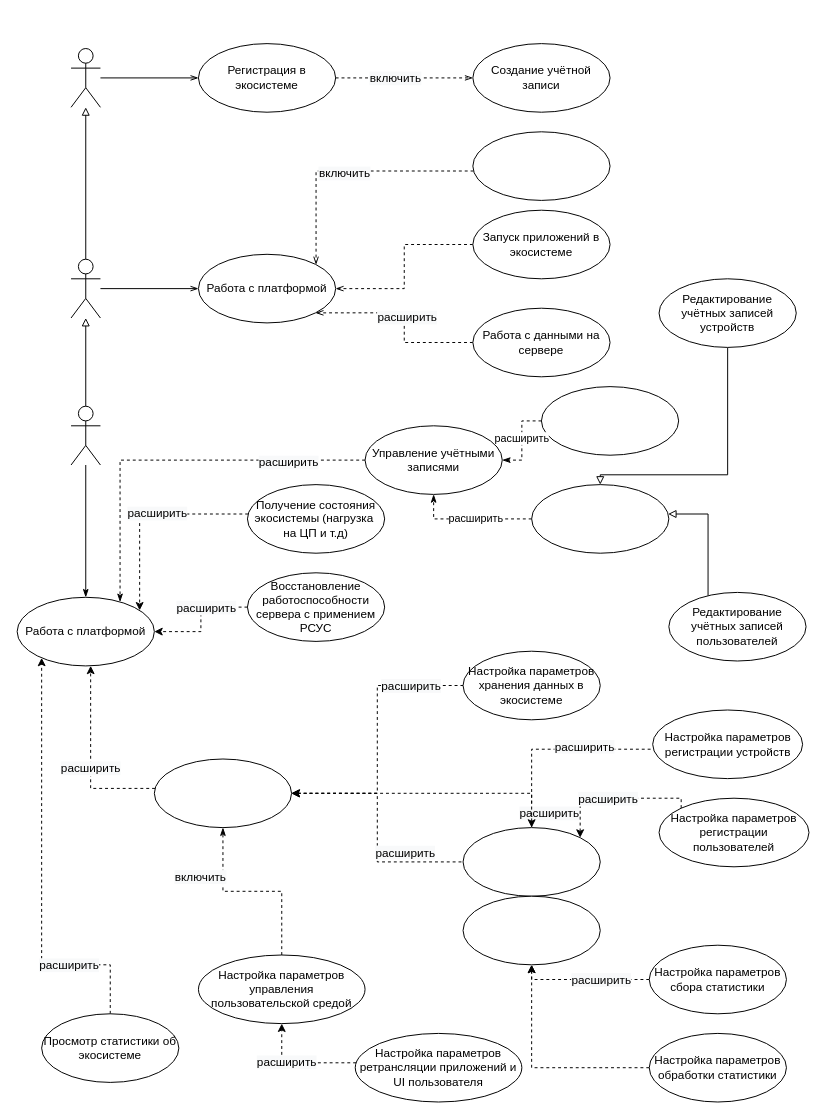
Some shapes in this 826 by 1119 pixel diagram are drawn without their labels. Here are the shapes that lost their labels. From the top down, the centre of each, then its label:
At (x=85, y=77): "Незарегистрированный пользователь".
At (x=541, y=165): "Авторизация".
At (x=85, y=288): "Пользователь тонкого клиента".
At (x=85, y=435): "Администратор экосистемы".
At (x=609, y=420): "Создание учётной записи пользователя".
At (x=600, y=518): "Редактирование учётных записей".
At (x=222, y=793): "Настройка параметров экосистемы".
At (x=531, y=861): "Настройка параметров регистрации".
At (x=531, y=930): "Настройка параметров статистики".
